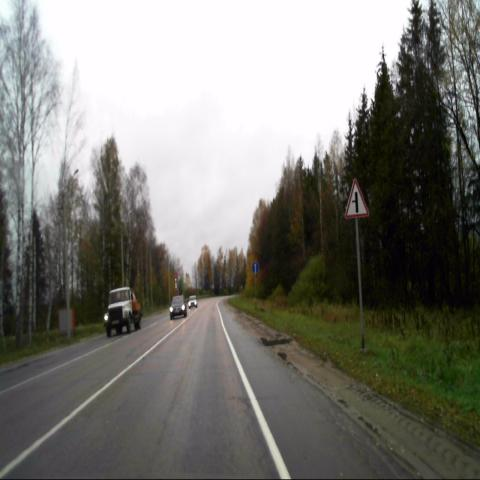2_3_3: (345, 177, 369, 218)
